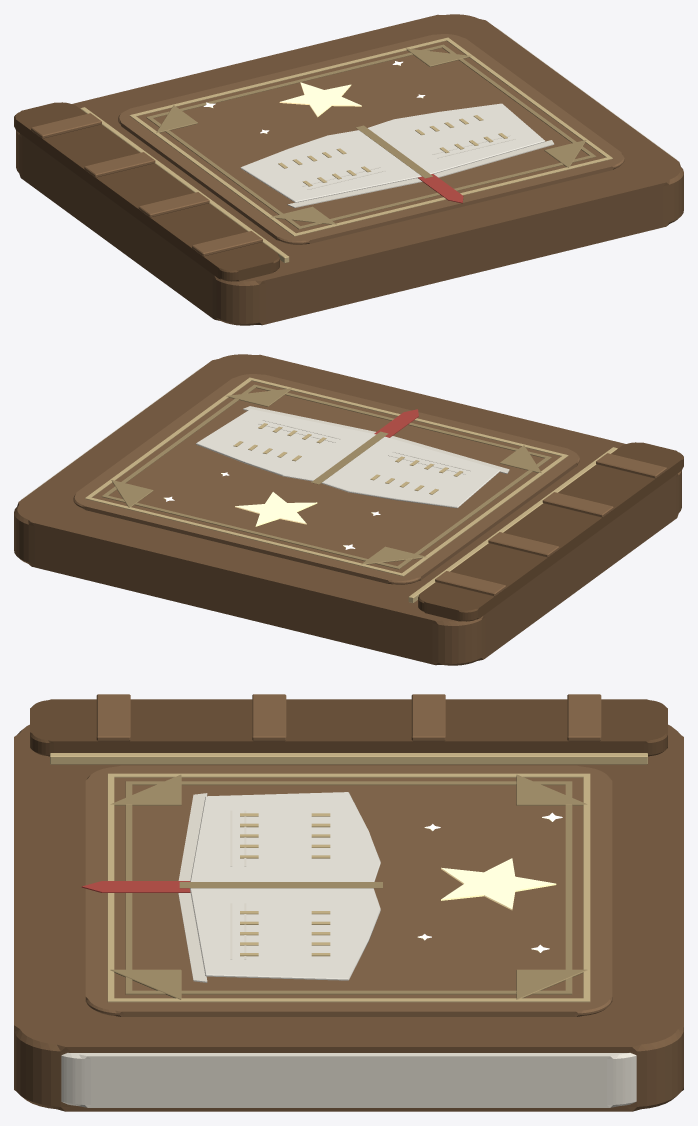
File: review_clear.glb
3 renders of one model, top to bottom at view 1: azimuth 30°, elevation 25°; view 2: azimuth 150°, elevation 25°; view 3: azimuth 270°, elevation 25°, orthographic. The views are drawn at different scales.
Visible parts, largest first — view 1: RV_Cover, RV_Field, RV_Leaves, RV_Spine, RV_Rule0, RV_SpineBands, RV_Rule1, RV_Stacks, RV_Star, RV_Hinge, RV_Ticks, RV_Gutter (+5 smaller); view 2: RV_Cover, RV_Field, RV_Leaves, RV_Spine, RV_Rule0, RV_SpineBands, RV_Rule1, RV_Star, RV_Hinge, RV_Stacks, RV_Ticks, RV_Gutter (+5 smaller); view 3: RV_Field, RV_Cover, RV_PageBlock, RV_Leaves, RV_Spine, RV_Rule0, RV_Hinge, RV_Rule1, RV_SpineBands, RV_Star, RV_Stacks, RV_Ticks (+6 smaller).
Boxes of the visible parts, x1,y1,x2,y2 form: RV_Cover: (16, 14, 683, 325); RV_Field: (118, 34, 624, 244); RV_Leaves: (240, 103, 545, 202); RV_Spine: (14, 102, 279, 281); RV_Rule0: (129, 37, 612, 236); RV_SpineBands: (31, 113, 262, 256); RV_Rule1: (146, 44, 596, 229); RV_Stacks: (287, 140, 554, 207); RV_Star: (279, 82, 361, 117); RV_Hinge: (80, 107, 289, 262); RV_Ticks: (278, 115, 507, 186); RV_Gutter: (355, 125, 432, 178); RV_Cover: (14, 354, 681, 665); RV_Field: (73, 374, 579, 584); RV_Leaves: (196, 409, 500, 508); RV_Spine: (418, 442, 683, 621); RV_Rule0: (85, 377, 568, 576); RV_SpineBands: (435, 453, 666, 596); RV_Rule1: (101, 384, 551, 569); RV_Star: (235, 492, 317, 526); RV_Hinge: (408, 447, 617, 602); RV_Stacks: (243, 406, 509, 473); RV_Ticks: (233, 423, 462, 494); RV_Gutter: (311, 431, 388, 484); RV_Field: (85, 765, 612, 1016); RV_Cover: (14, 724, 683, 1111); RV_PageBlock: (61, 1053, 636, 1107); RV_Leaves: (190, 792, 380, 980); RV_Spine: (30, 699, 667, 756); RV_Rule0: (107, 773, 590, 1002); RV_Hinge: (50, 753, 647, 764); RV_Rule1: (125, 781, 572, 994); RV_SpineBands: (96, 694, 601, 741); RV_Star: (441, 858, 556, 910); RV_Stacks: (178, 793, 207, 982); RV_Ticks: (240, 813, 330, 956).
Size of the model in its own units: 0.0399 by 0.00474 by 0.0336.
